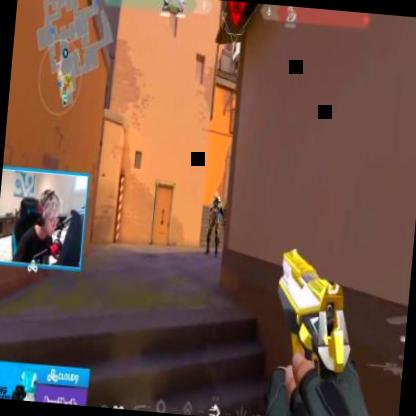enemy: (204, 191, 223, 257)
enemy_head: (213, 191, 219, 202)
